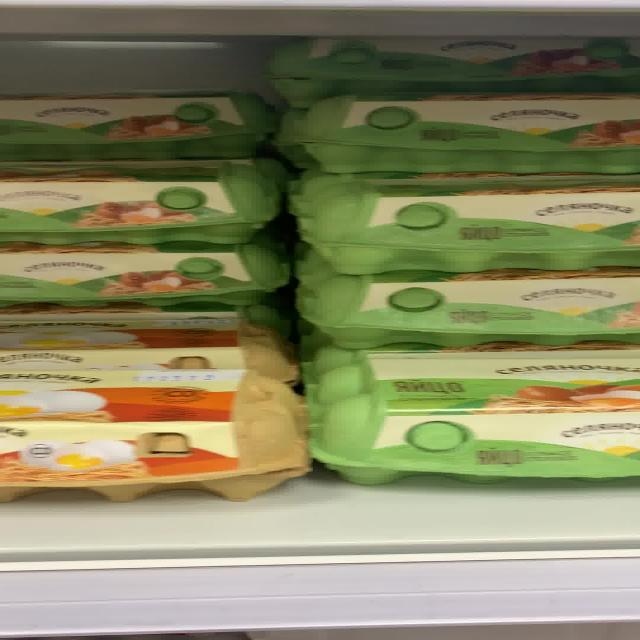egg box: (303, 344, 637, 496), (2, 372, 317, 505), (276, 177, 634, 278), (275, 92, 635, 179), (256, 33, 633, 113), (289, 268, 632, 351), (2, 159, 283, 245), (0, 236, 292, 315), (0, 84, 268, 160), (2, 316, 302, 379)
